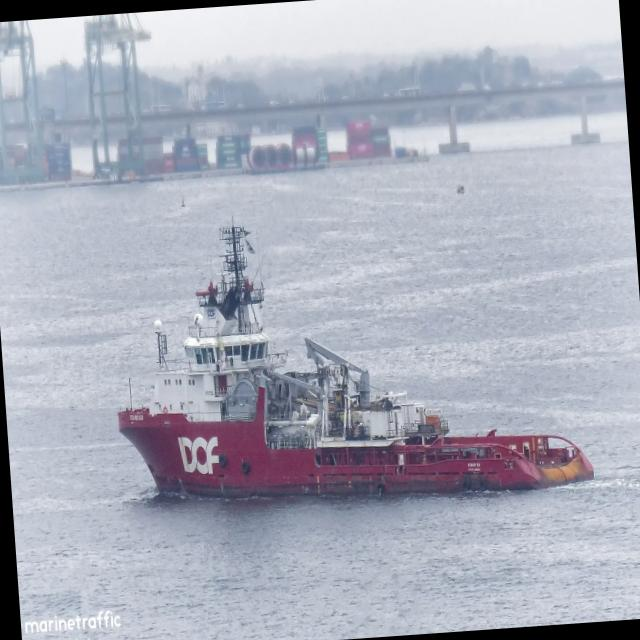Offshore: (117, 226, 592, 495)
